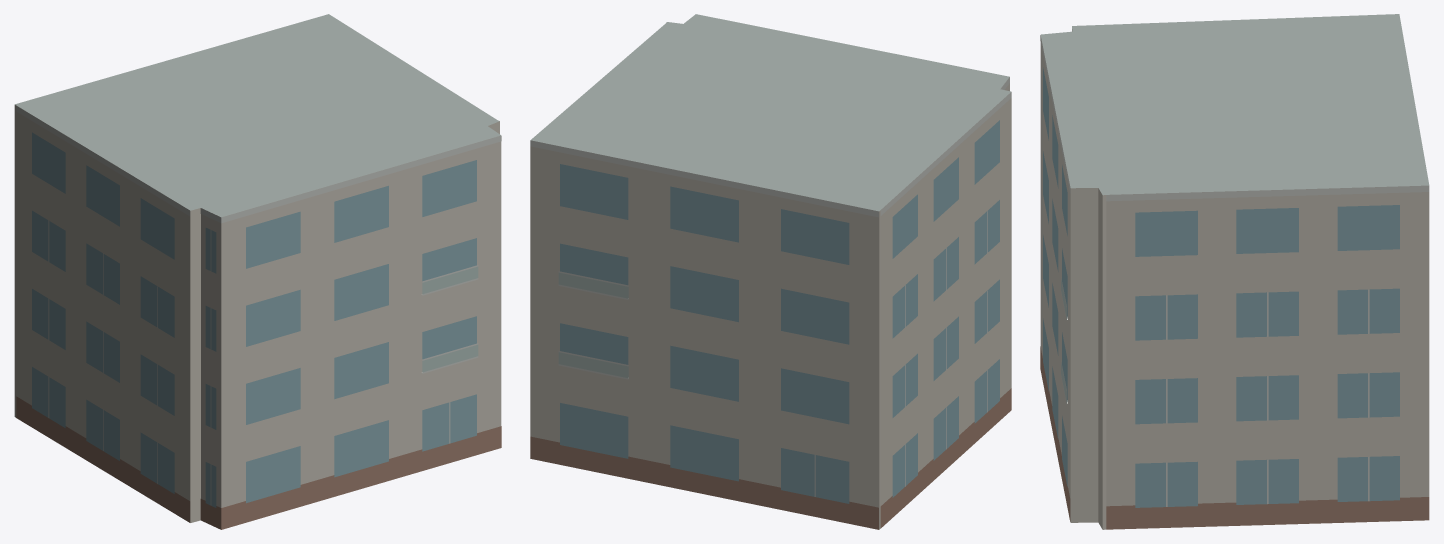
File: survey-upis-32608013.glb
3 renders of one model, left to right at view 1: azimuth 30°, elevation 25°; view 2: azimuth 150°, elevation 25°; view 3: azimuth 270°, elevation 25°, orthographic. The views are drawn at different scales.
Visible parts, largest first — view 1: survey-upis-32608013.tmp; view 2: survey-upis-32608013.tmp; view 3: survey-upis-32608013.tmp.
Part boxes in pixels (bbox=[...]): survey-upis-32608013.tmp: bbox=[14, 14, 501, 529]; survey-upis-32608013.tmp: bbox=[530, 14, 1011, 529]; survey-upis-32608013.tmp: bbox=[1040, 14, 1429, 529].
Size of the model in its own units: 14.87 by 12.8 by 13.49.
